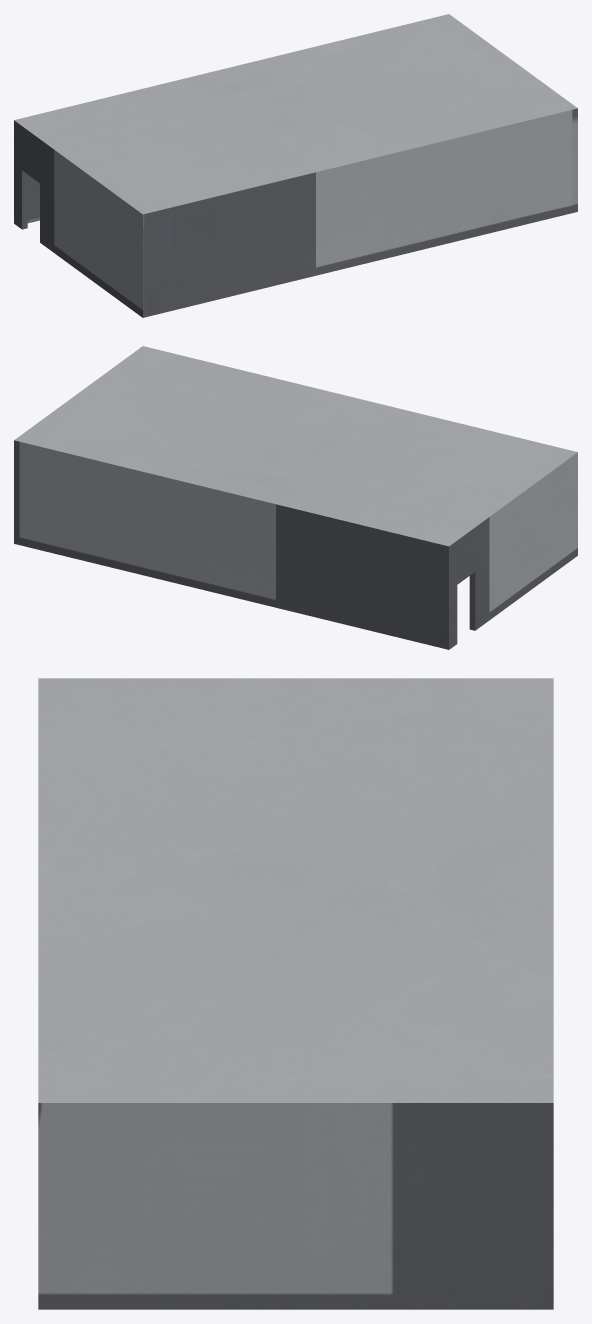
The model's file is BgMD_Tanihira_Wall_0701.fbx.
The picture shows the model from 3 angles, top to bottom: view 1: azimuth 30°, elevation 25°; view 2: azimuth 150°, elevation 25°; view 3: azimuth 270°, elevation 25°; orthographic projection. The views are drawn at different scales.
Parts seen in each view (by area): view 1: polySurface97; view 2: polySurface97; view 3: polySurface97.
Part boxes in pixels (box(x1,y1,x2,y2)): polySurface97: box(14, 14, 577, 317); polySurface97: box(14, 346, 577, 649); polySurface97: box(38, 678, 553, 1309).
Size of the model in its own units: 1540 by 350 by 790.
